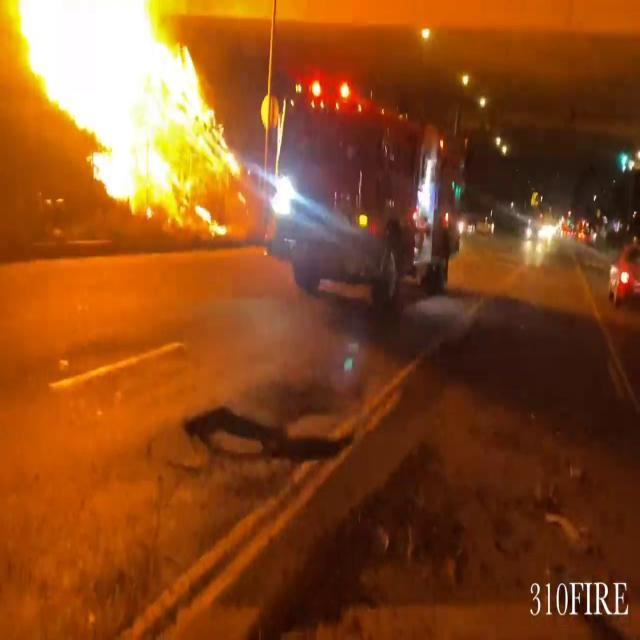Fire: (0, 0, 223, 217)
